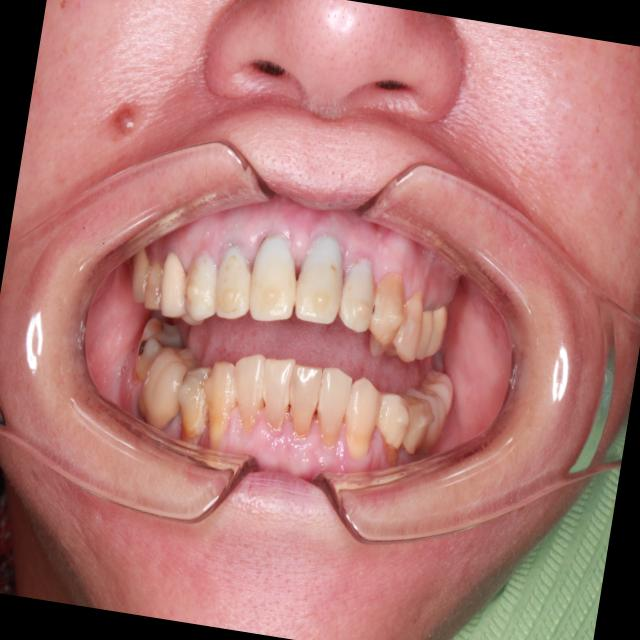tooth: (130, 335, 207, 440), (286, 224, 354, 332), (242, 224, 307, 331), (129, 309, 194, 395), (192, 356, 247, 455), (249, 352, 304, 446), (337, 369, 389, 467), (223, 345, 275, 443), (208, 239, 263, 329), (332, 248, 385, 341), (308, 359, 357, 453), (279, 355, 330, 445), (169, 357, 219, 448), (175, 242, 227, 326), (365, 262, 413, 353), (396, 384, 453, 459), (152, 245, 198, 327), (390, 387, 440, 462), (389, 282, 431, 366), (370, 386, 416, 457), (413, 364, 461, 423), (123, 239, 160, 308), (140, 255, 175, 317), (424, 297, 453, 365), (411, 303, 439, 365)
